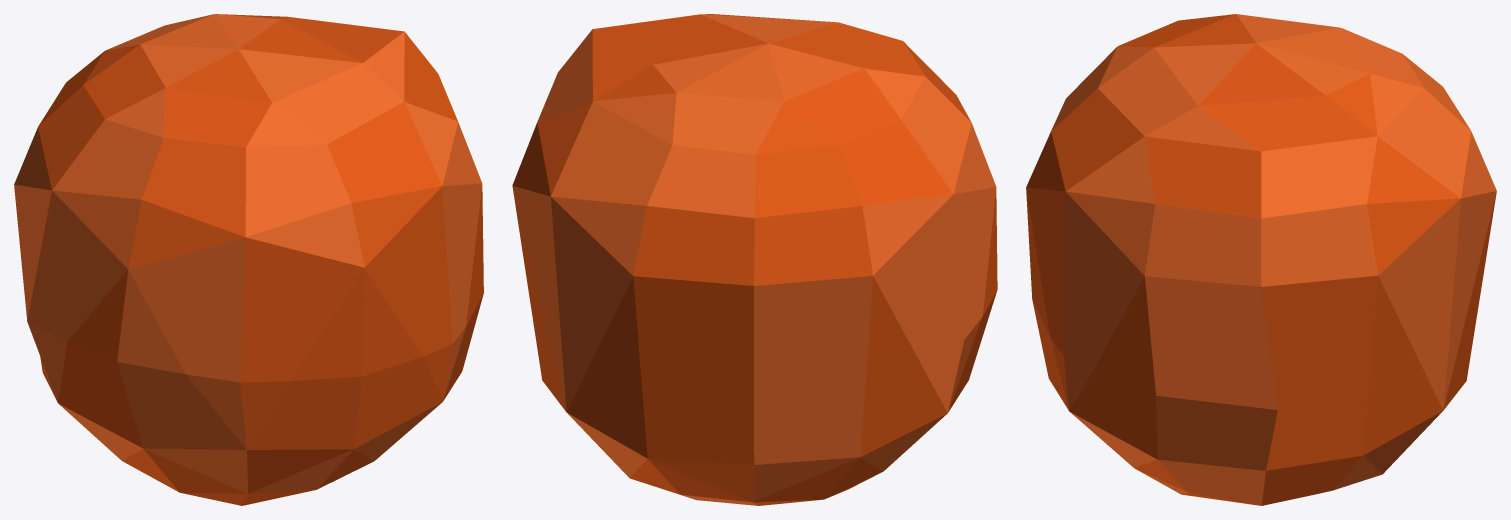
The model's file is mesh_orange.fbx.
3 renders of one model, left to right at view 1: azimuth 30°, elevation 25°; view 2: azimuth 150°, elevation 25°; view 3: azimuth 270°, elevation 25°, orthographic. The views are drawn at different scales.
Parts seen in each view (by area): view 1: mesh_orange; view 2: mesh_orange; view 3: mesh_orange.
Boxes of the visible parts, <box> form: mesh_orange: <box>14,14,483,505</box>; mesh_orange: <box>512,14,997,505</box>; mesh_orange: <box>1026,14,1496,505</box>.
Bounding box in the file's own units: 0.2293 × 0.2156 × 0.2194.
